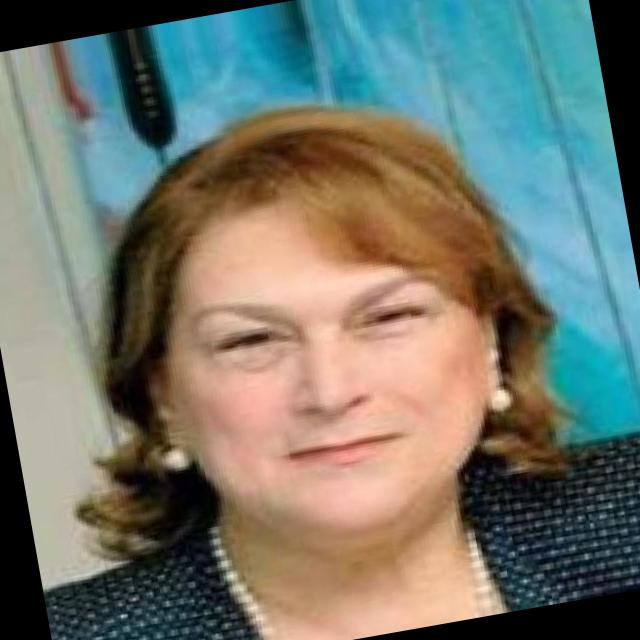bareface: (134, 117, 530, 567)
